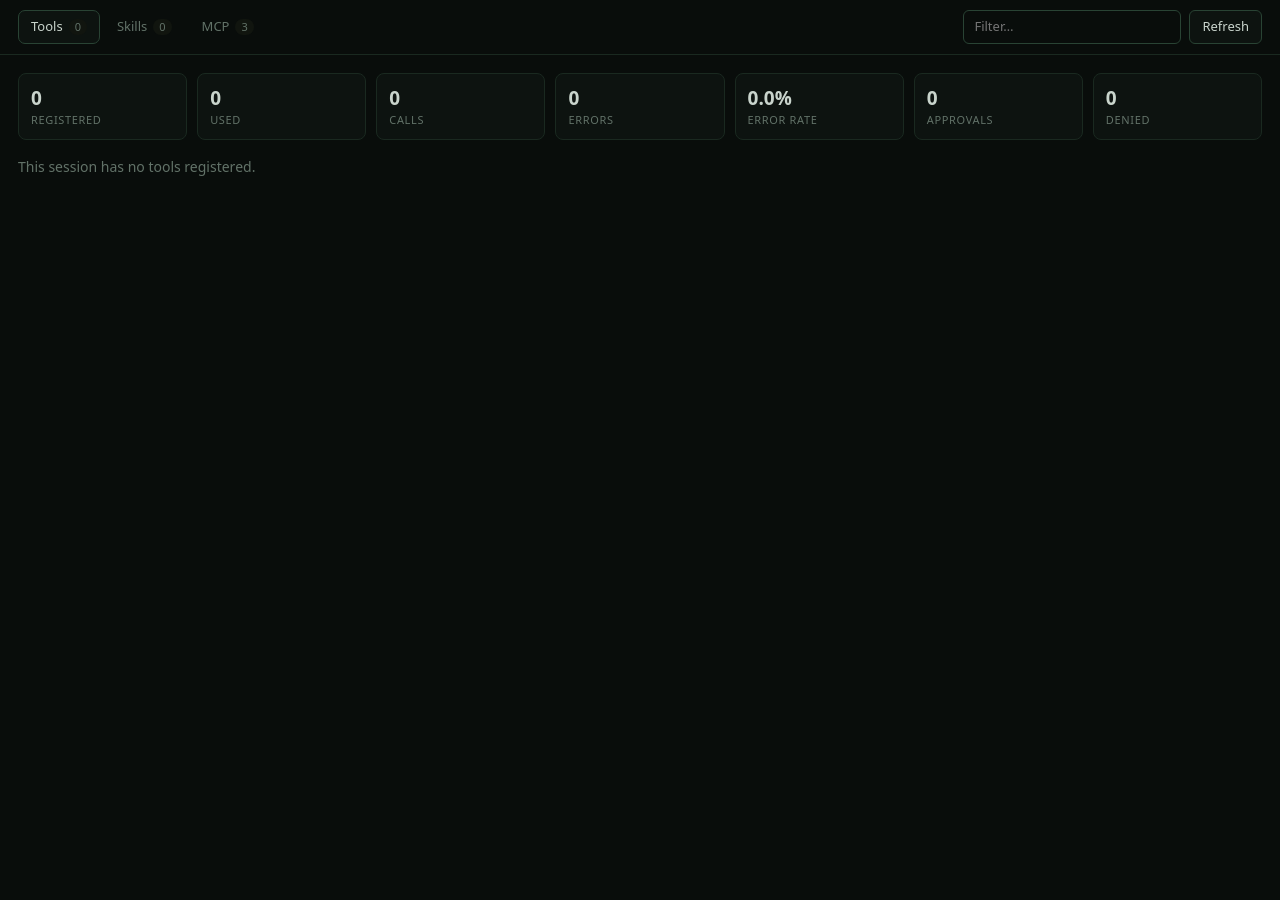
Test case: ToolsPage MCP edit › opens a prefilled form from the Edit button
The image size is (1280, 900).
Click the button "MCP 3" at {"x": 228, "y": 27}, box [189, 10, 267, 44]
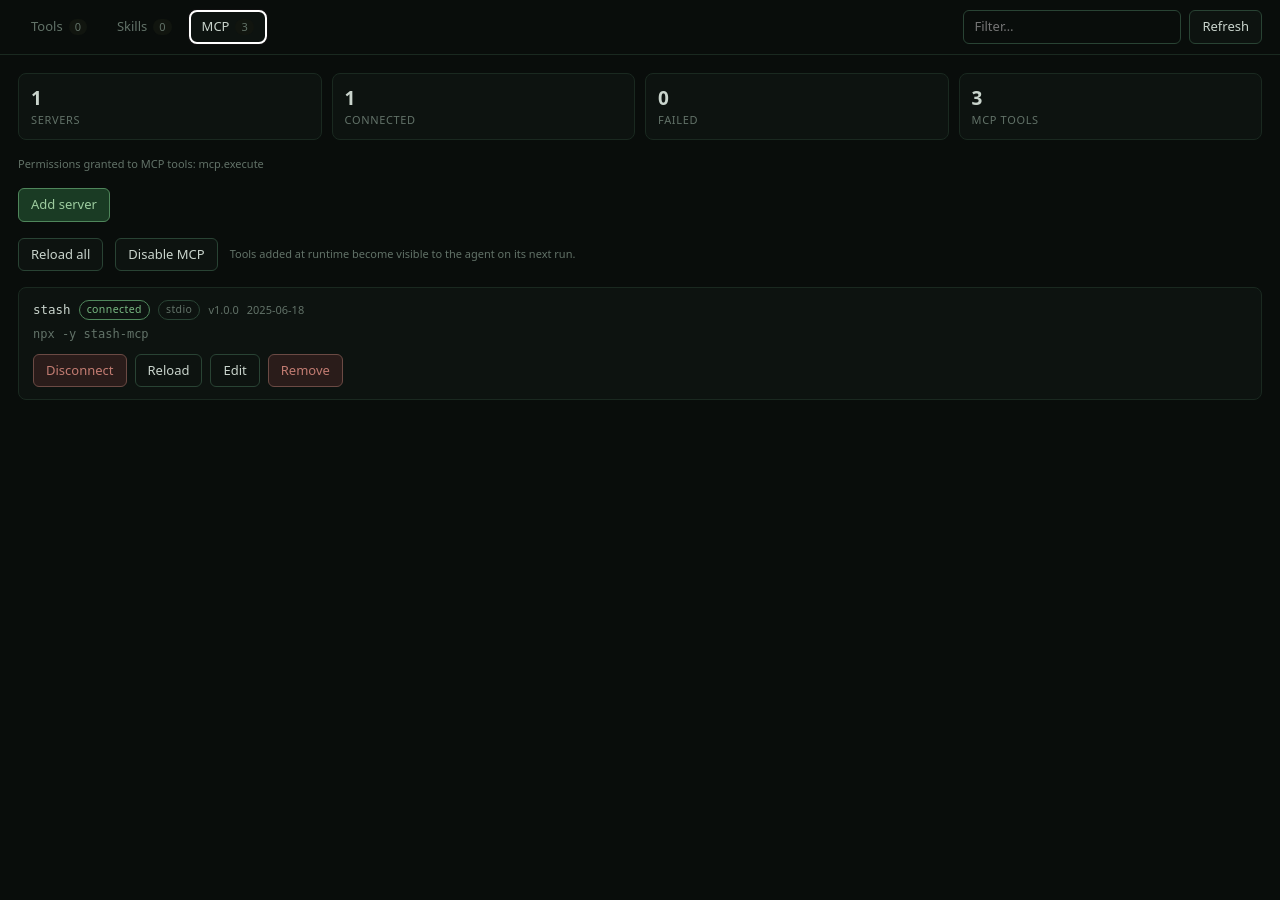
Expected: the text "stash" is shown, [33, 300, 71, 319]
Click the button "Edit" at {"x": 235, "y": 370}, box [210, 354, 260, 387]
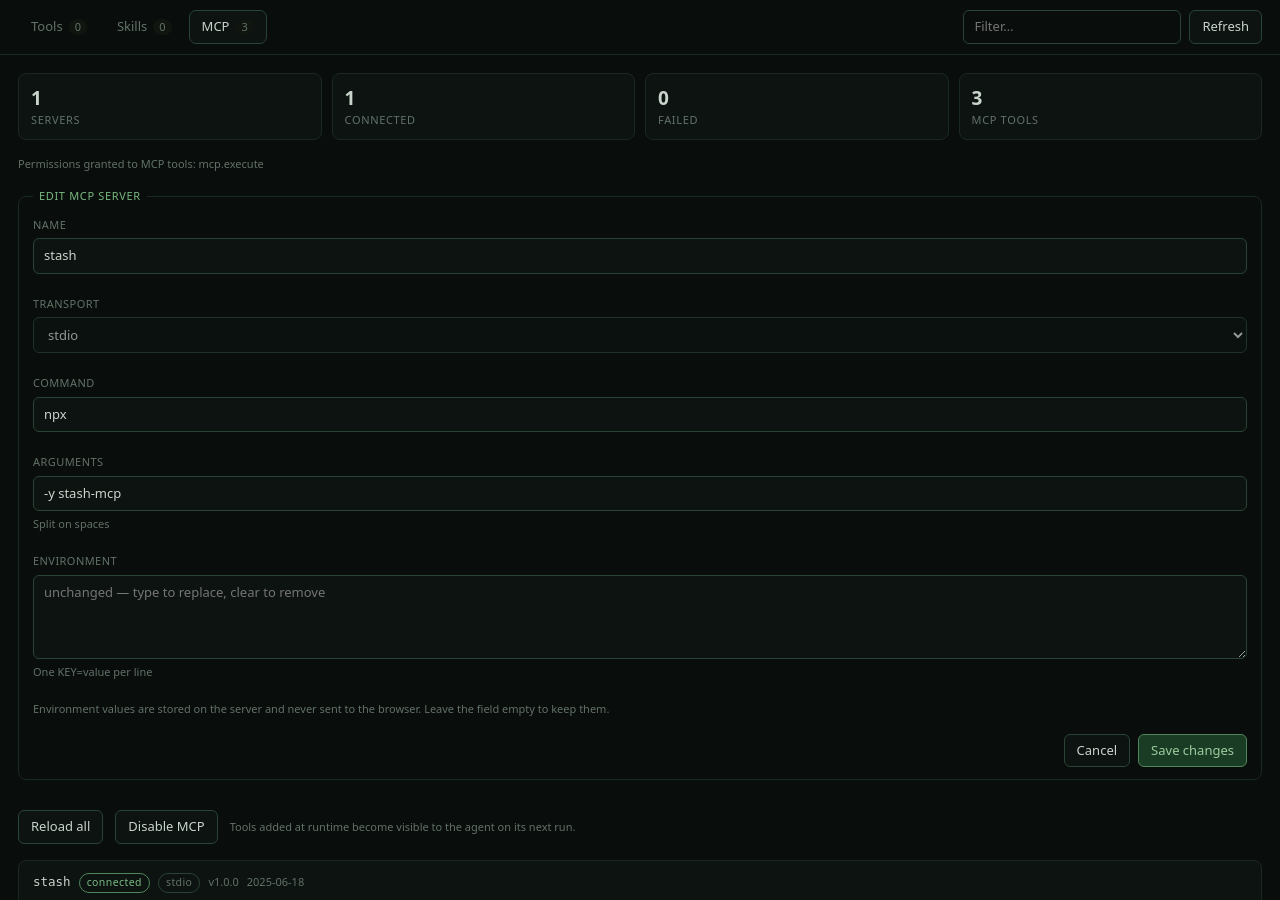
Expected: the text "Edit MCP server" is shown, [33, 188, 147, 204]
Expected: the field named "Command" holds "npx", [33, 396, 1247, 432]
Expected: the field named "Arguments" holds "-y stash-mcp", [33, 476, 1247, 511]
